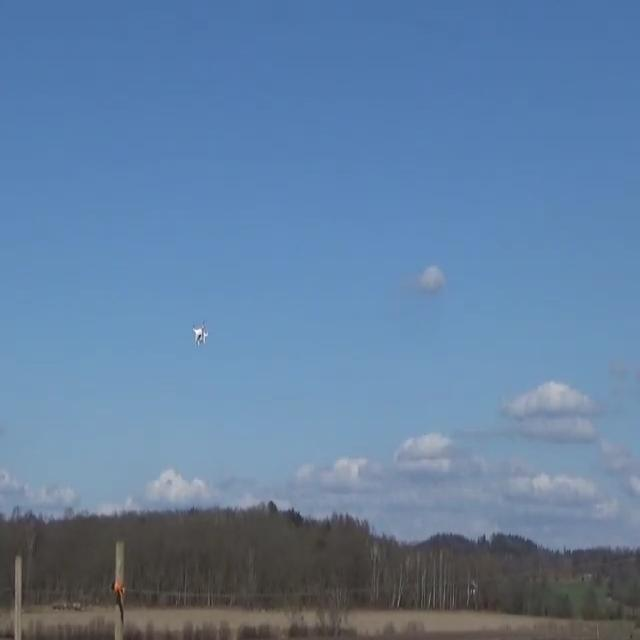Drone: (181, 315, 220, 353)
